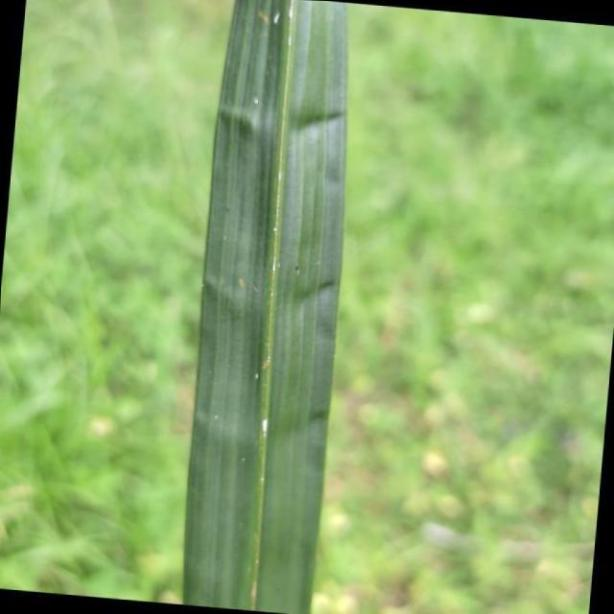Boron: (180, 0, 348, 614)
